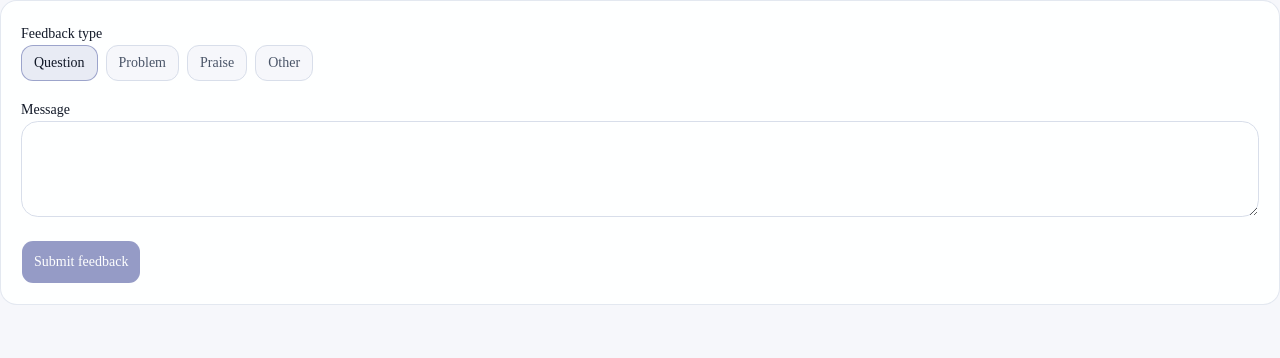
Test: AssetFeedbackForm › shows error message on failure
The width and height of the screenshot is (1280, 358).
In the text box: [640, 169] box [21,121,1259,217], type "Oops"
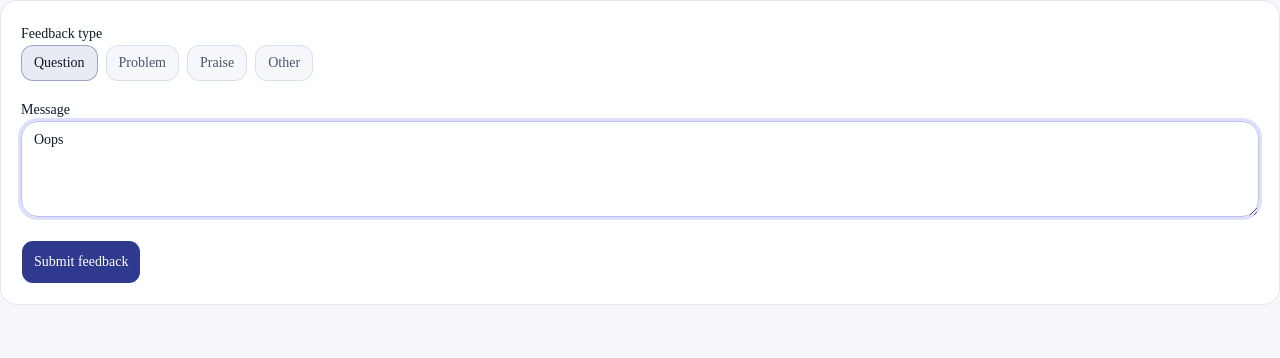
Click the button "Submit feedback": [81, 262] box [21,240,142,284]
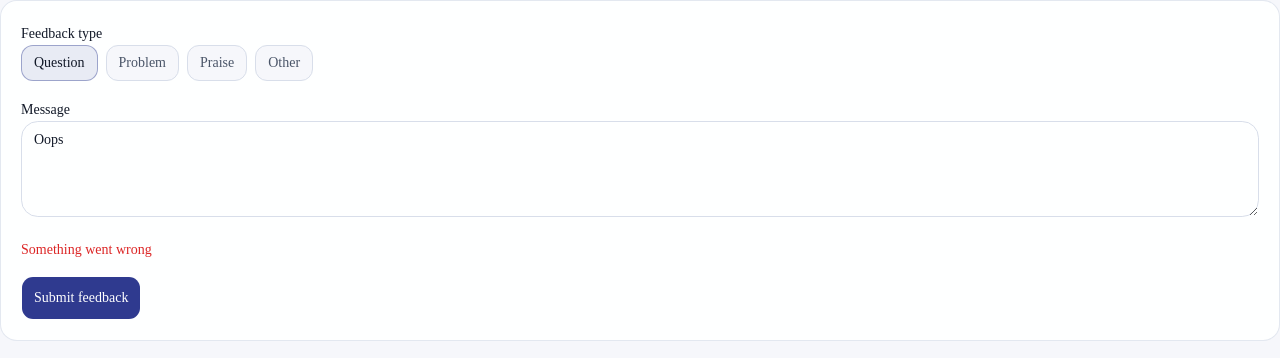
Now the text "Something went wrong" is shown, box [21,242,152,257]
